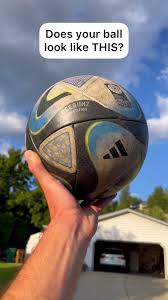football ball: (24, 72, 149, 201)
